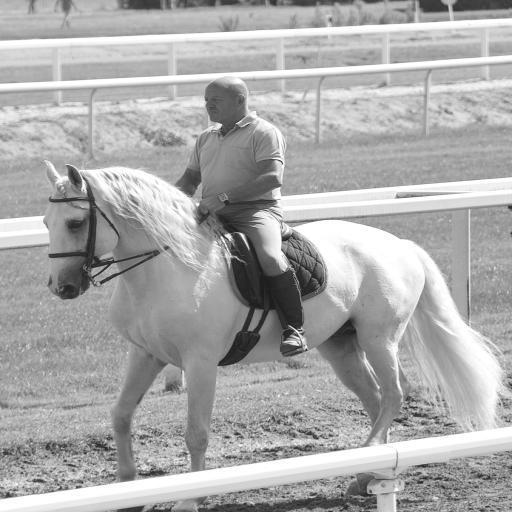horse: (42, 158, 512, 512)
